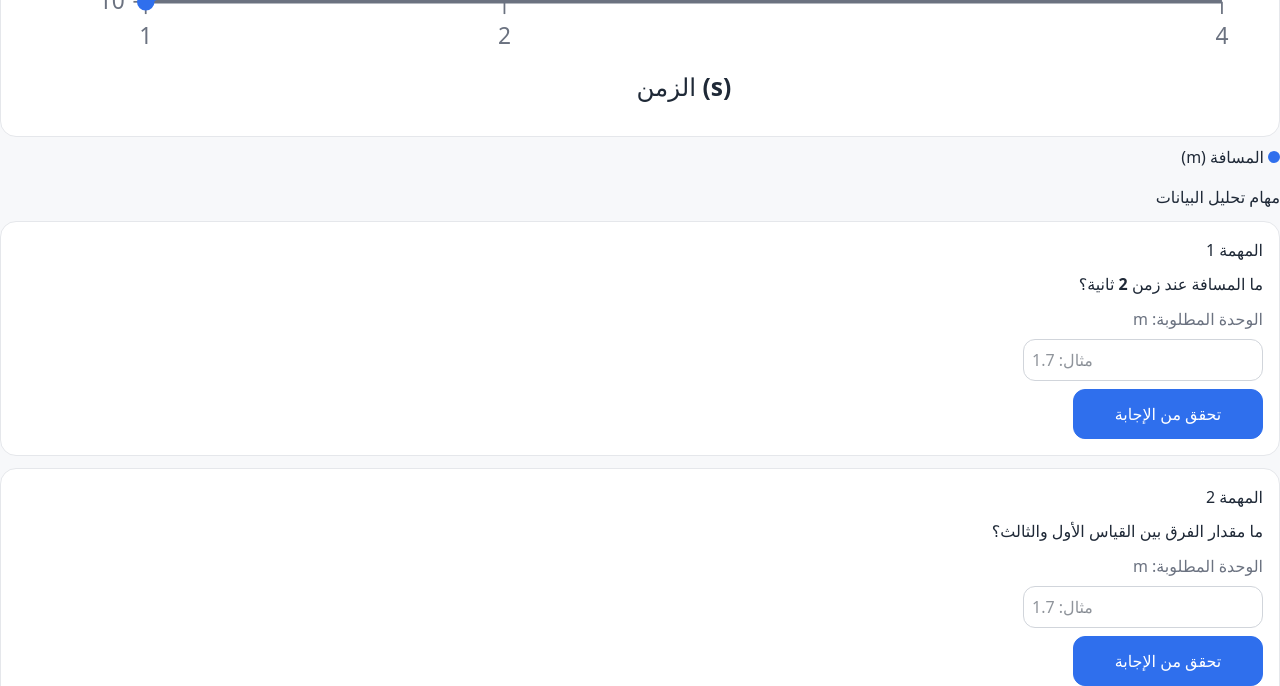
Test: DataActivityRunner › يعطي feedback حتميًا صحيحًا وخاطئًا دون كشف جواب مخفي
The image size is (1280, 686).
(page scrolled)
Type "20" into the field labelled "ما المسافة عند زمن 2 ثانية؟" at [1143, 360], box x1=1023 y1=339 x2=1263 y2=381
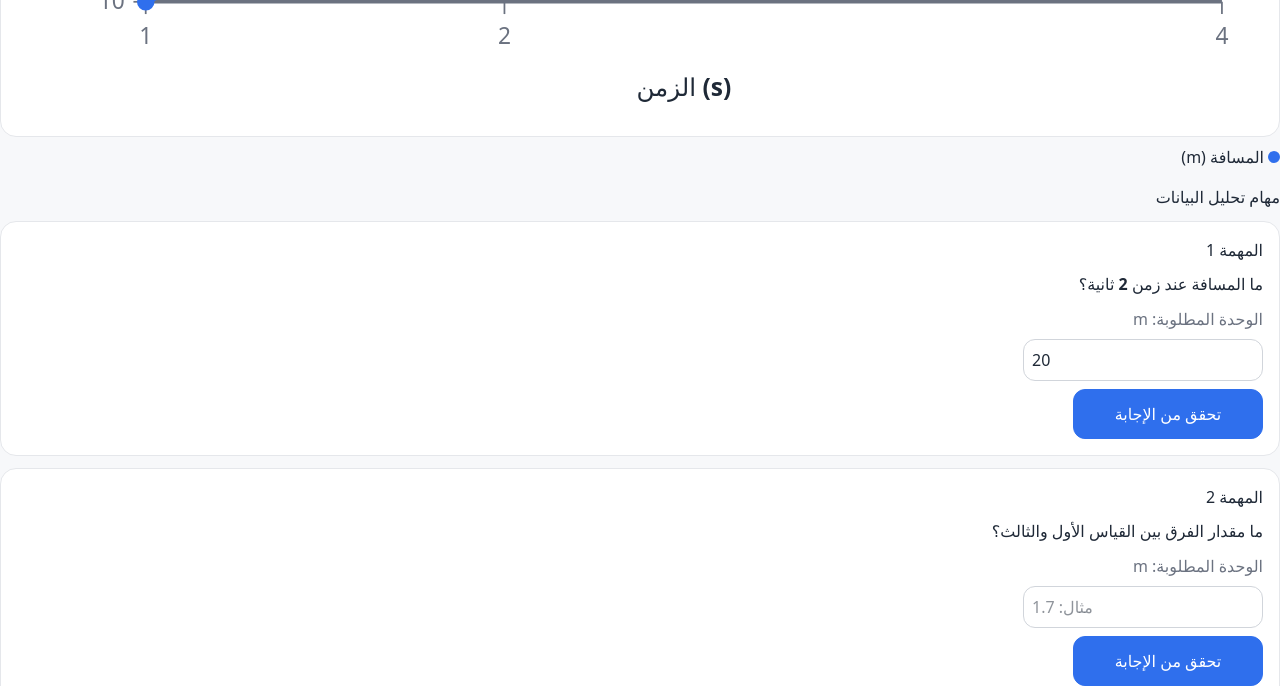
Click the button "تحقق من الإجابة" below "ما المسافة عند زمن 2 ثانية؟" at [1168, 414], box x1=1073 y1=389 x2=1263 y2=439
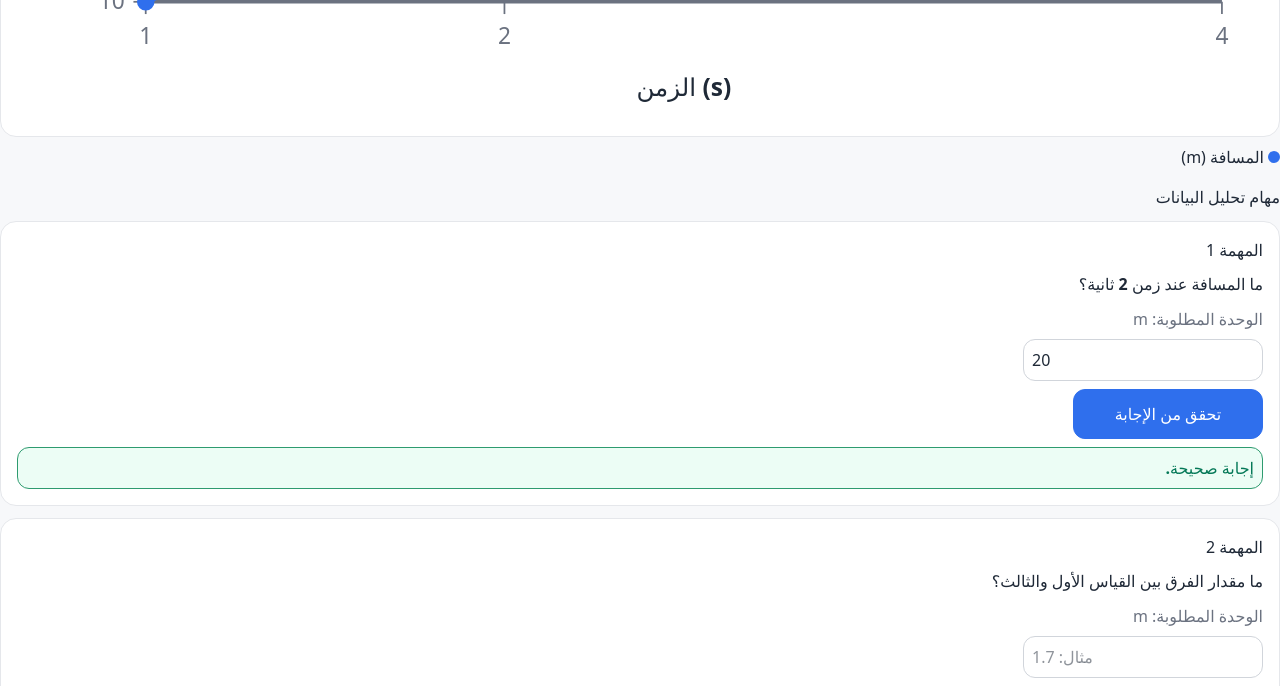
Expected: the text "إجابة صحيحة." is shown, x1=17 y1=447 x2=1263 y2=489
Replace the text in the field labelled "ما المسافة عند زمن 2 ثانية؟" with "19" at [1143, 360], box x1=1023 y1=339 x2=1263 y2=381
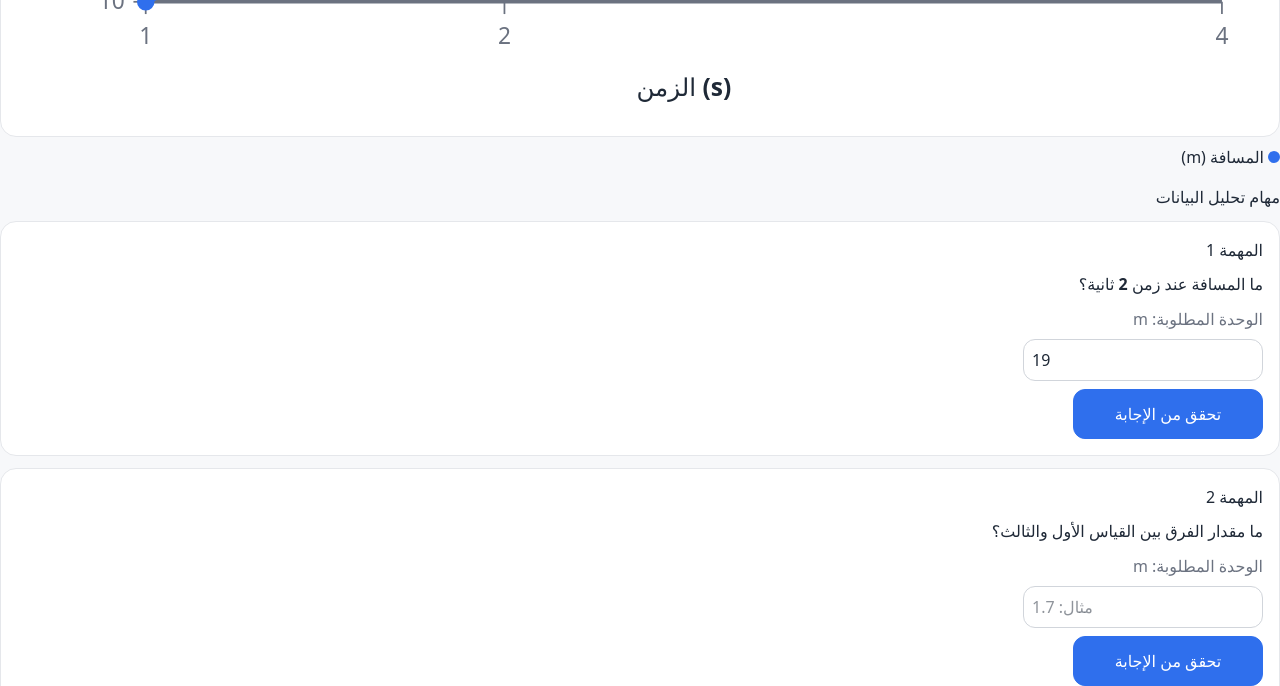
Expected: the text "إجابة صحيحة." is gone
Click the button "تحقق من الإجابة" below "ما المسافة عند زمن 2 ثانية؟" at [1168, 414], box x1=1073 y1=389 x2=1263 y2=439
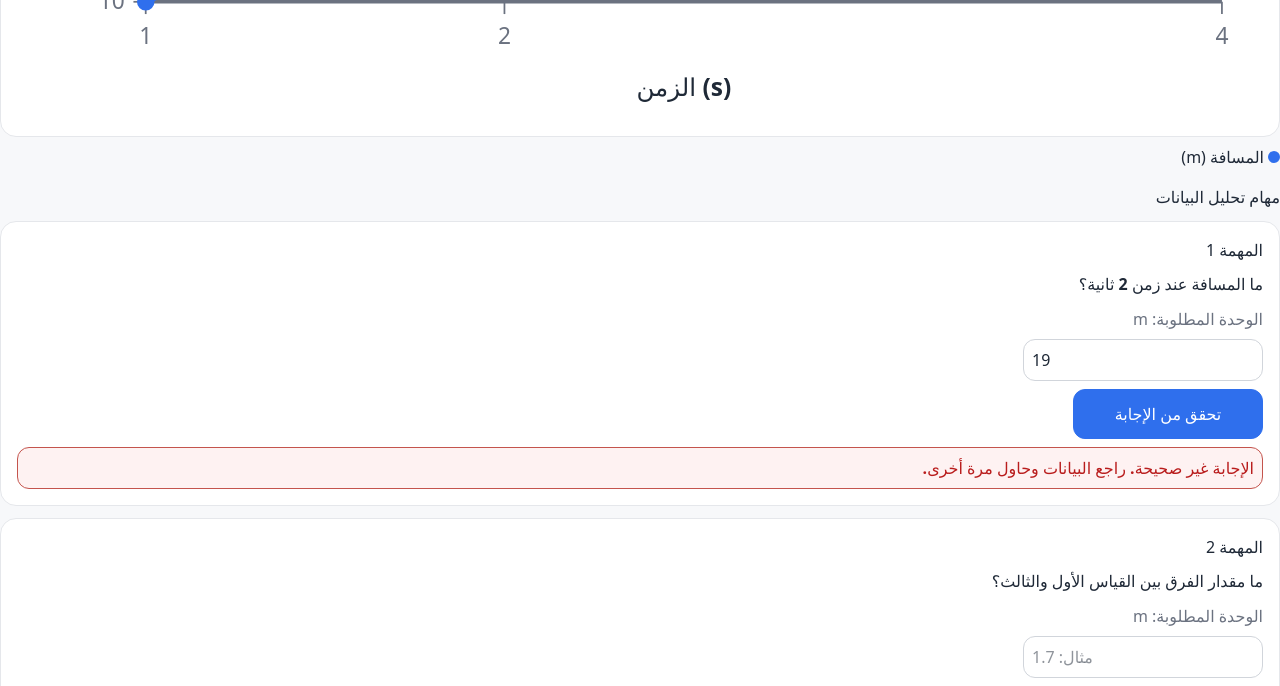
Expected: the text "الإجابة غير صحيحة. راجع البيانات وحاول مرة أخرى." is shown, x1=17 y1=447 x2=1263 y2=489
